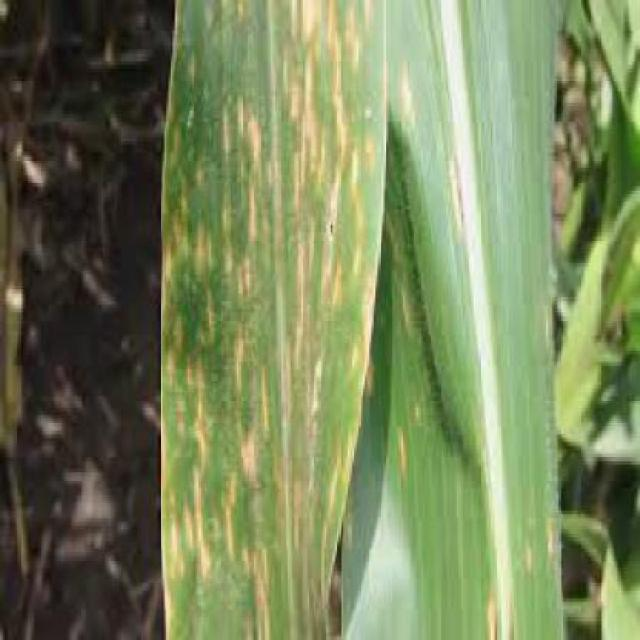Corn_Grey_Leaf_Spot: (140, 0, 395, 637)
